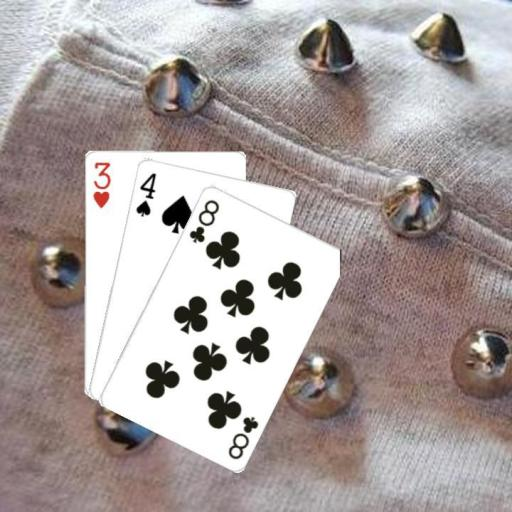3H: (90, 159, 112, 209)
4S: (132, 169, 157, 218)
8C: (186, 195, 221, 244), (225, 412, 260, 461)
